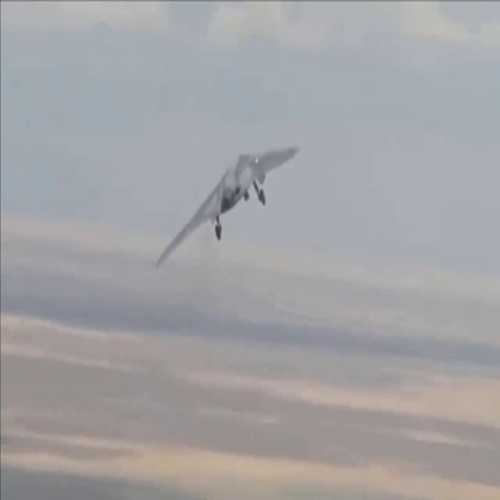uav: (153, 140, 306, 273)
